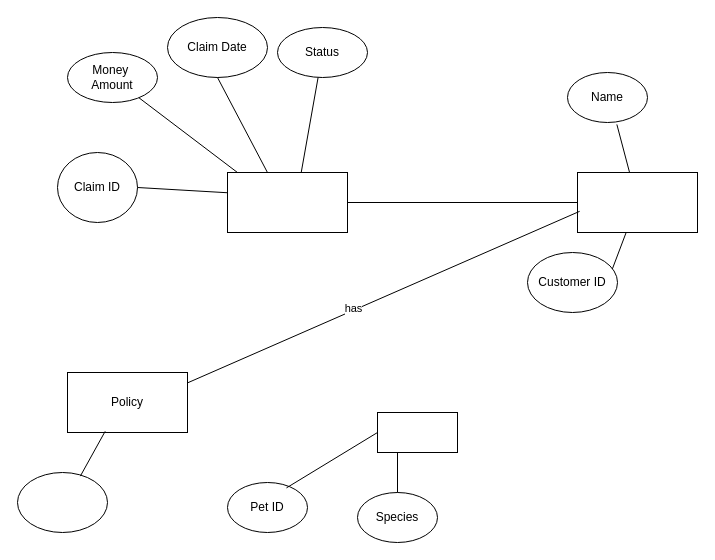
This 715x560 diagram has some shape labels left out. Each missing label, with the centre of its shape:
"Claim" goes at pixel 287 202.
"Customer" goes at pixel 637 202.
"Pet" goes at pixel 417 432.
"Policy ID" goes at pixel 62 502.
